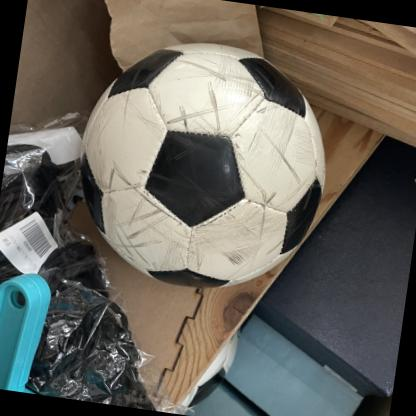ball: (63, 28, 343, 306)
